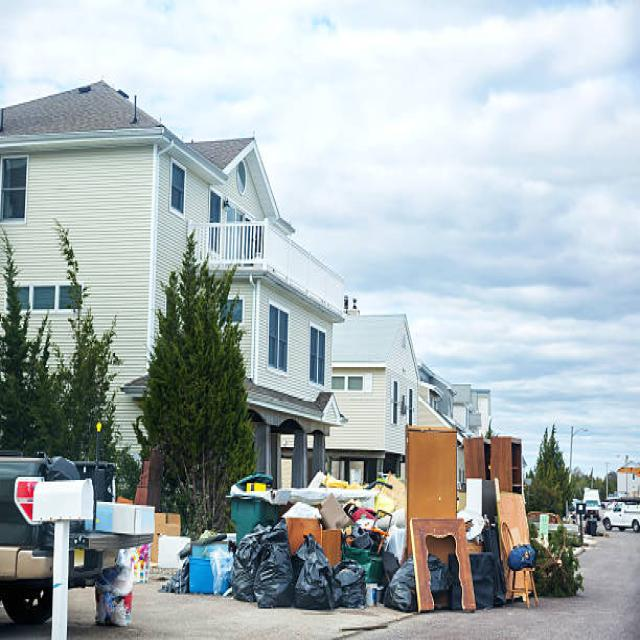cardboard: (396, 433, 525, 521)
trash: (227, 478, 407, 607), (168, 534, 220, 594), (102, 544, 136, 631)
